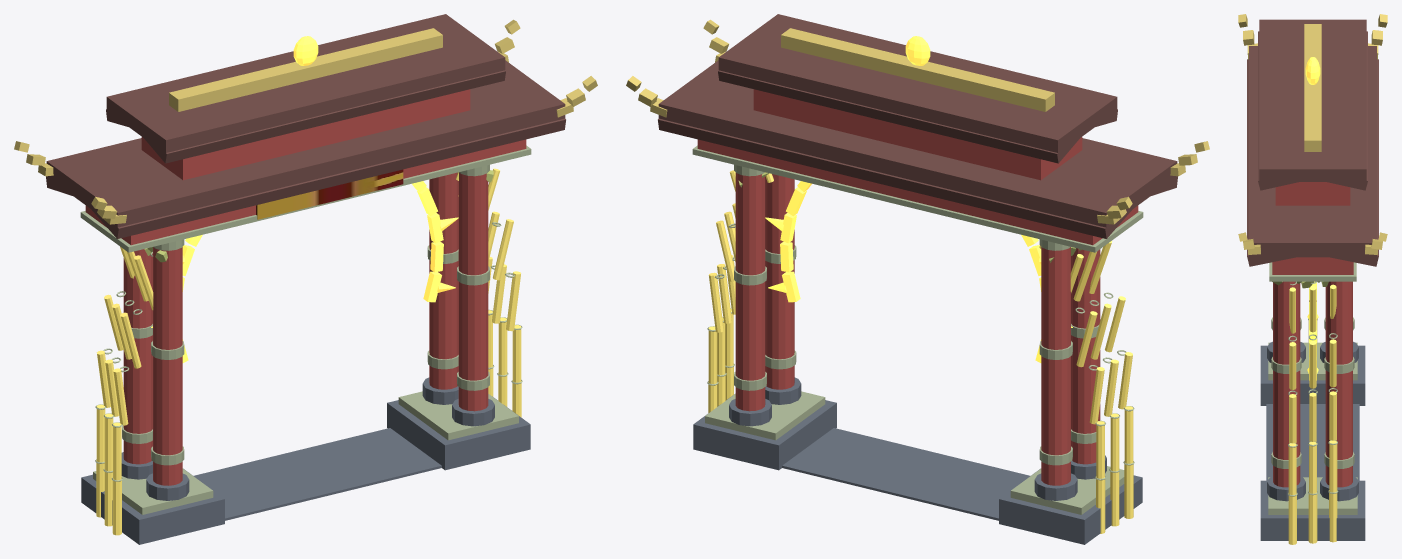
File: portal_soc_son.glb
3 views of the same model, side by side, from view 1: azimuth 30°, elevation 25°; view 2: azimuth 150°, elevation 25°; view 3: azimuth 270°, elevation 25° (orthographic). The views are drawn at different scales.
Parts seen in each view (by area): view 1: Portal_Soc_Son; view 2: Portal_Soc_Son; view 3: Portal_Soc_Son.
Boxes of the visible parts, x1,y1,x2,y2 form: Portal_Soc_Son: (14, 14, 597, 544); Portal_Soc_Son: (626, 14, 1209, 544); Portal_Soc_Son: (1238, 14, 1387, 544).
Bounding box in the file's own units: 6.75 × 5.64 × 1.92.
9 materials, 1 textured.
